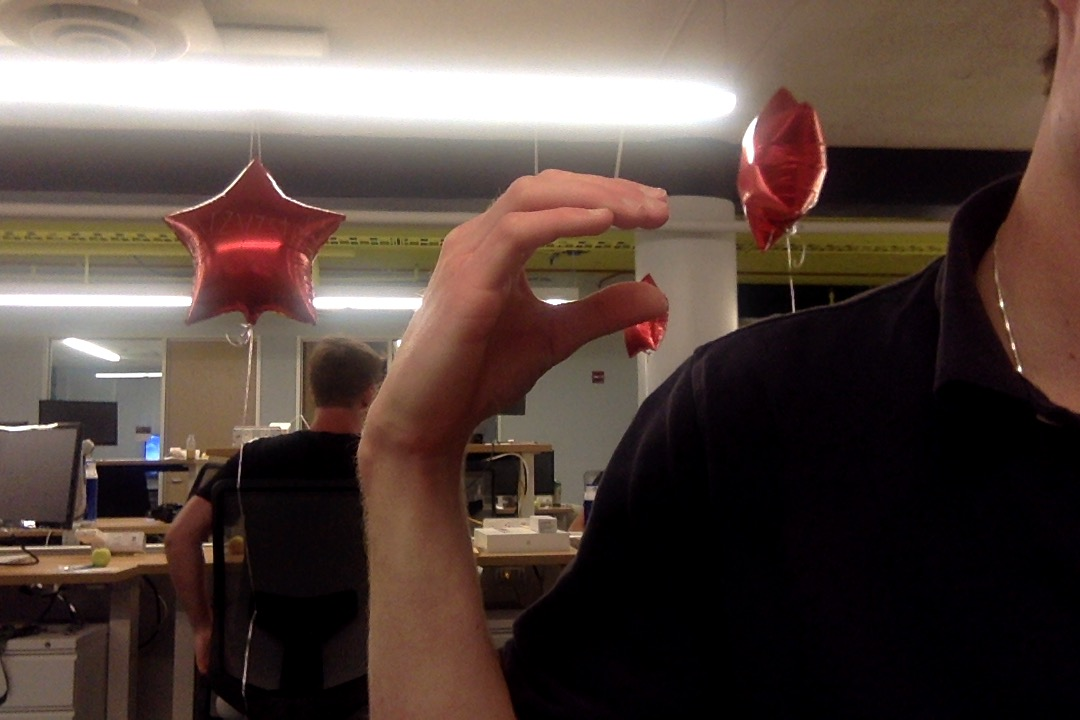c: (360, 160, 678, 459)
